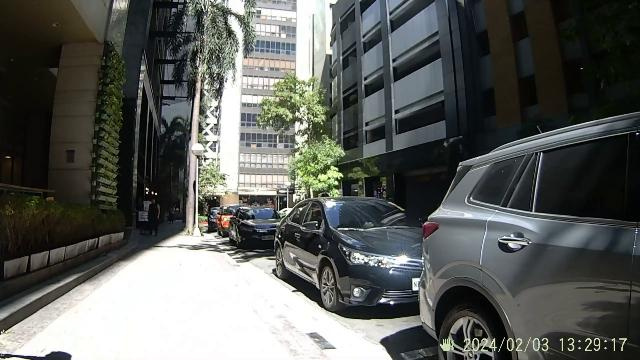lamp_post: (187, 141, 207, 243)
